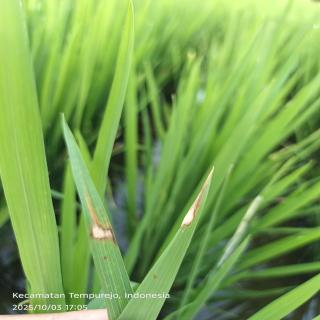Blast: (78, 169, 119, 248), (179, 166, 215, 229)
